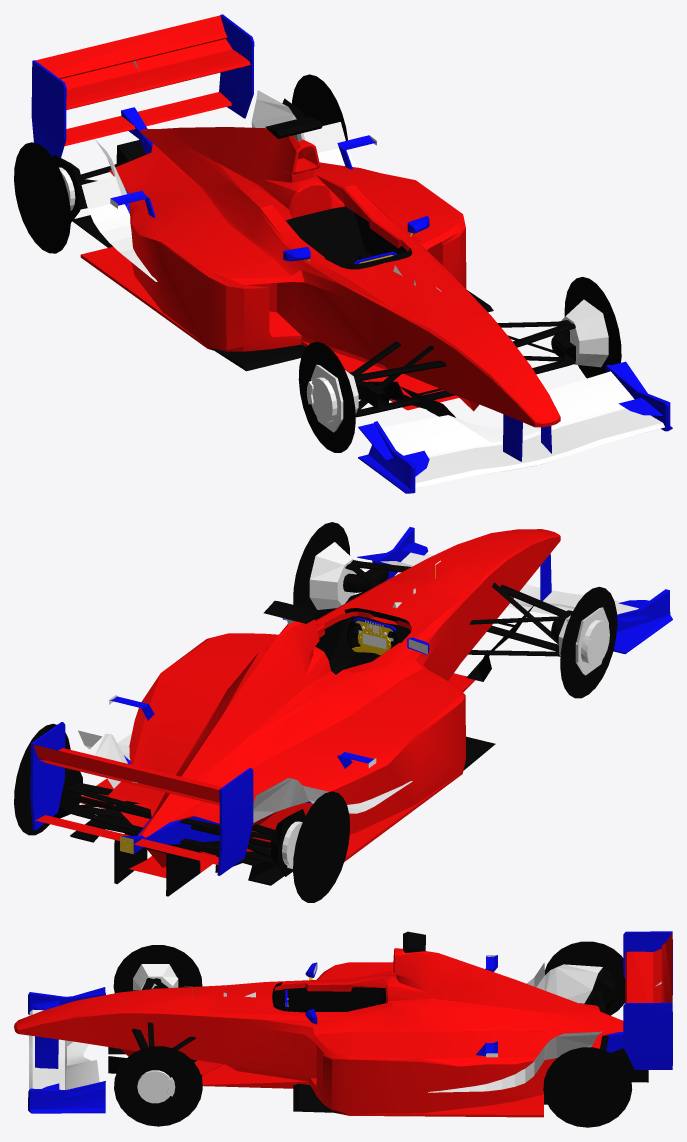
3 views of the same model, one above another, from view 1: azimuth 30°, elevation 25°; view 2: azimuth 150°, elevation 25°; view 3: azimuth 270°, elevation 25° (orthographic). The views are drawn at different scales.
Parts seen in each view (by area): view 1: SketchUp_030, SketchUp_028, SketchUp_010, SketchUp_012, SketchUp_218, SketchUp_014, SketchUp_212, SketchUp_190, SketchUp_018, SketchUp_019, SketchUp_199, SketchUp_015 (+16 smaller); view 2: SketchUp_030, SketchUp_218, SketchUp_212, SketchUp_018, SketchUp_015, SketchUp_014, SketchUp_144, SketchUp_060, SketchUp_026, SketchUp_214, SketchUp_216, SketchUp_019 (+23 smaller); view 3: SketchUp_030, SketchUp_216, SketchUp_214, SketchUp_015, SketchUp_212, SketchUp_179, SketchUp_218, SketchUp_027, SketchUp_012, SketchUp_183, SketchUp_028, SketchUp_010 (+14 smaller).
Part boxes in pixels (x1=…): SketchUp_030: x1=80, y1=127, x2=560, y2=427; SketchUp_028: x1=381, y1=371, x2=634, y2=457; SketchUp_010: x1=415, y1=408, x2=664, y2=488; SketchUp_012: x1=60, y1=39, x2=250, y2=109; SketchUp_218: x1=14, y1=142, x2=70, y2=253; SketchUp_014: x1=35, y1=15, x2=227, y2=78; SketchUp_212: x1=298, y1=341, x2=355, y2=452; SketchUp_190: x1=285, y1=206, x2=364, y2=268; SketchUp_018: x1=31, y1=60, x2=66, y2=157; SketchUp_019: x1=64, y1=92, x2=231, y2=146; SketchUp_199: x1=81, y1=176, x2=133, y2=251; SketchUp_015: x1=219, y1=14, x2=254, y2=118; SketchUp_030: x1=80, y1=529, x2=560, y2=877; SketchUp_218: x1=293, y1=791, x2=349, y2=902; SketchUp_212: x1=560, y1=586, x2=617, y2=698; SketchUp_018: x1=217, y1=768, x2=253, y2=875; SketchUp_015: x1=30, y1=722, x2=65, y2=830; SketchUp_014: x1=33, y1=744, x2=219, y2=802; SketchUp_144: x1=309, y1=542, x2=356, y2=609; SketchUp_060: x1=114, y1=835, x2=219, y2=896; SketchUp_026: x1=613, y1=589, x2=672, y2=654; SketchUp_214: x1=293, y1=522, x2=350, y2=620; SketchUp_216: x1=14, y1=723, x2=70, y2=835; SketchUp_019: x1=35, y1=815, x2=218, y2=864; SketchUp_030: x1=14, y1=948, x2=623, y2=1117; SketchUp_216: x1=543, y1=1047, x2=632, y2=1127; SketchUp_214: x1=114, y1=1046, x2=202, y2=1126; SketchUp_015: x1=623, y1=1002, x2=672, y2=1069; SketchUp_212: x1=113, y1=945, x2=202, y2=993; SketchUp_179: x1=274, y1=987, x2=385, y2=1012; SketchUp_218: x1=545, y1=941, x2=625, y2=1015; SketchUp_027: x1=28, y1=1081, x2=105, y2=1113; SketchUp_012: x1=625, y1=949, x2=661, y2=1002; SketchUp_183: x1=536, y1=964, x2=602, y2=1003; SketchUp_028: x1=65, y1=1040, x2=99, y2=1089; SketchUp_010: x1=29, y1=1009, x2=64, y2=1089.
Bounding box in the file's own units: 0.3402 × 0.8888 × 0.2018.
